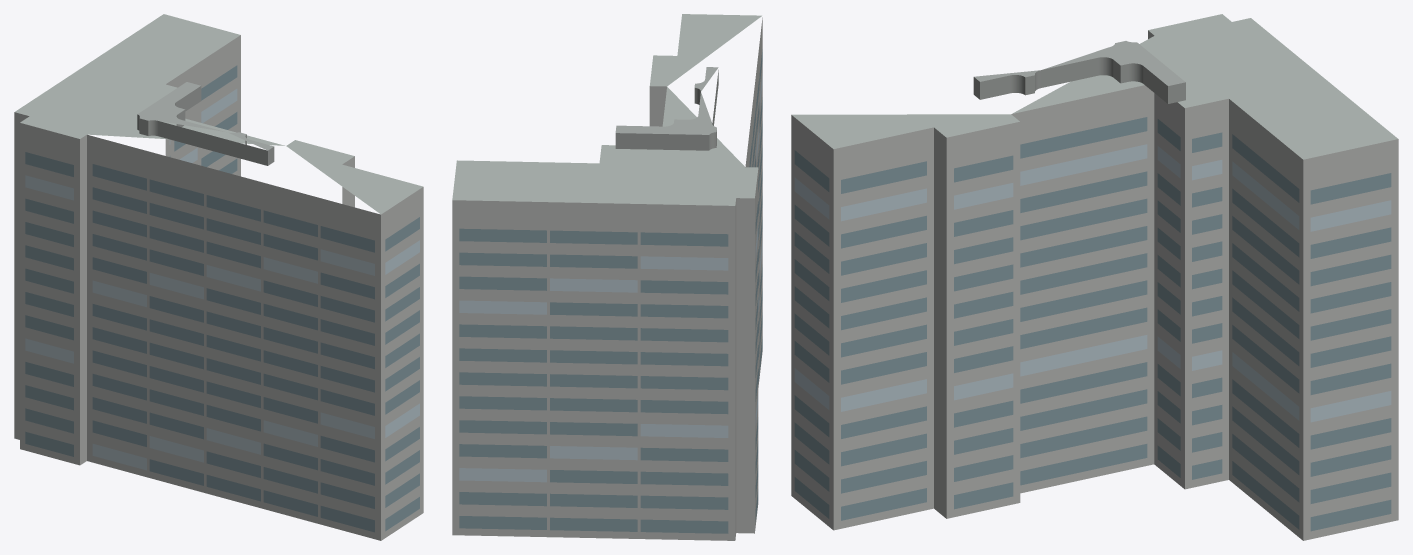
Rendered from fallback-onebailey-102.glb.
The picture shows the model from 3 angles, left to right: view 1: azimuth 30°, elevation 25°; view 2: azimuth 150°, elevation 25°; view 3: azimuth 270°, elevation 25°; orthographic projection. The views are drawn at different scales.
Parts seen in each view (by area): view 1: fallback-onebailey-102; view 2: fallback-onebailey-102; view 3: fallback-onebailey-102.
Boxes of the visible parts, left/top/right/bottom form: fallback-onebailey-102: left=14, top=14, right=423, bottom=540; fallback-onebailey-102: left=452, top=14, right=762, bottom=540; fallback-onebailey-102: left=791, top=14, right=1398, bottom=540.
Size of the model in its own units: 35.23 by 45 by 62.02.
